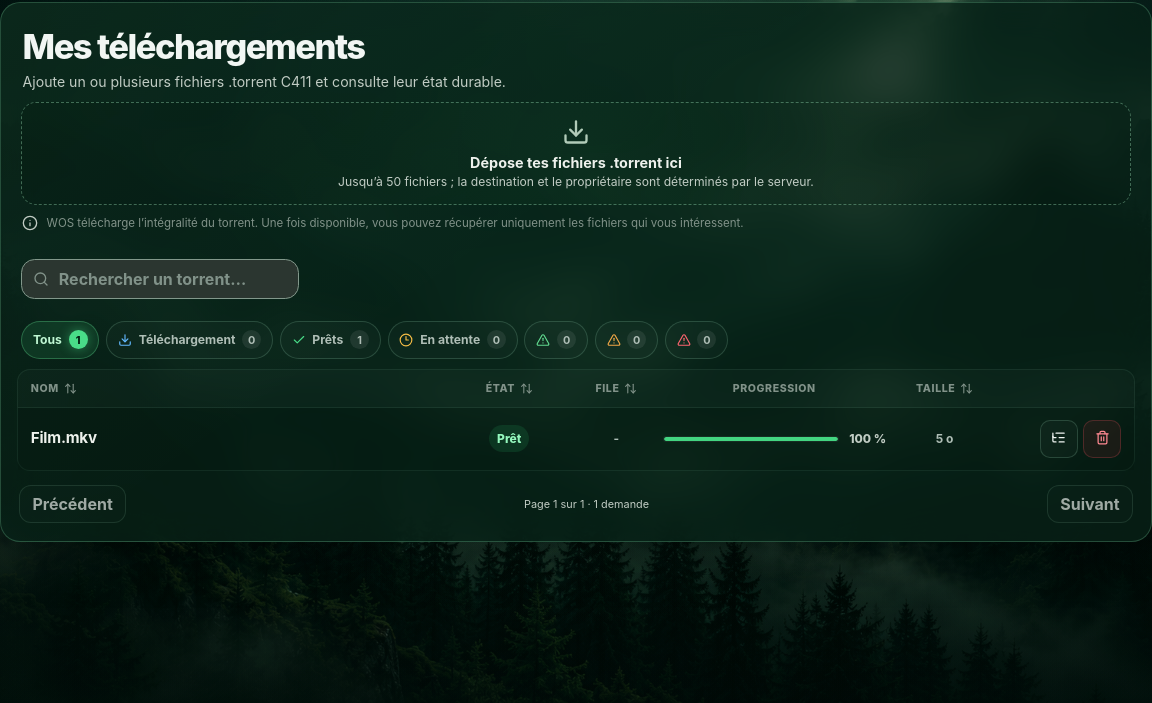
Test: UserDownloadsPage › isole une erreur de manifeste et permet de réessayer
The image size is (1152, 703).
Click the button named "Afficher les détails de Film.mkv": (1059, 438) [1040, 420, 1078, 458]
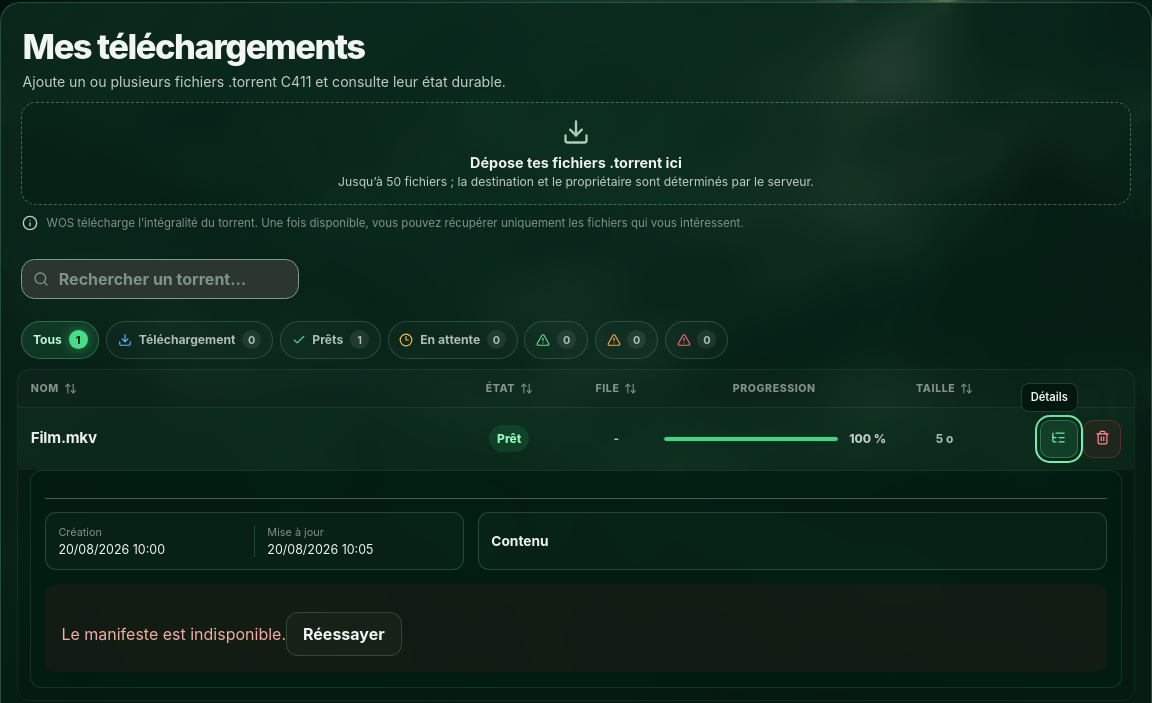
Result: the message shows "Le manifeste est indisponible." at [61, 624, 286, 644]
Click the button "Réessayer": (344, 634) [286, 612, 402, 656]
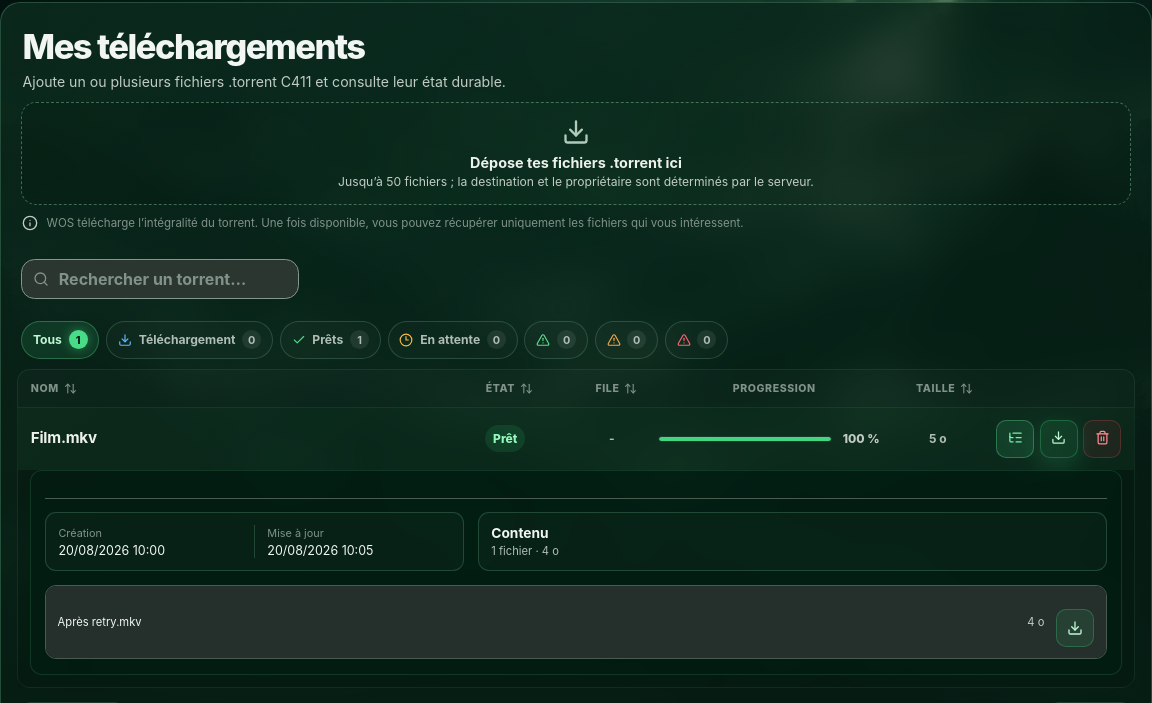
Result: the text "Après retry.mkv" is shown at [58, 615, 142, 629]
